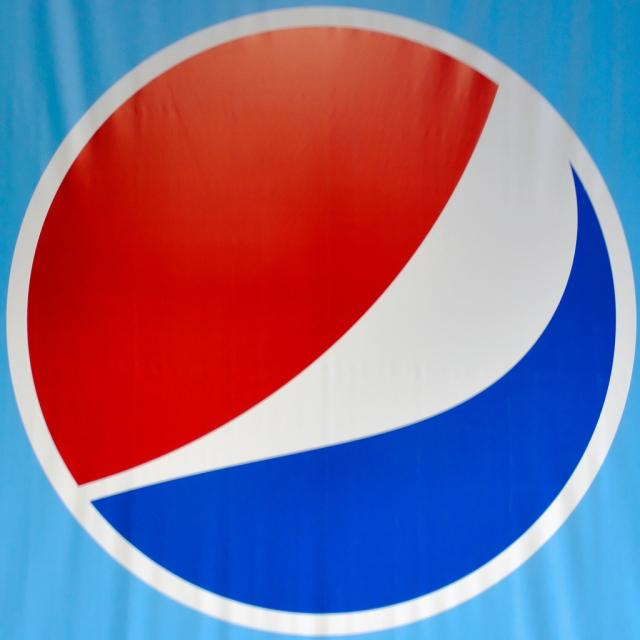pepsi: (2, 10, 640, 640)
